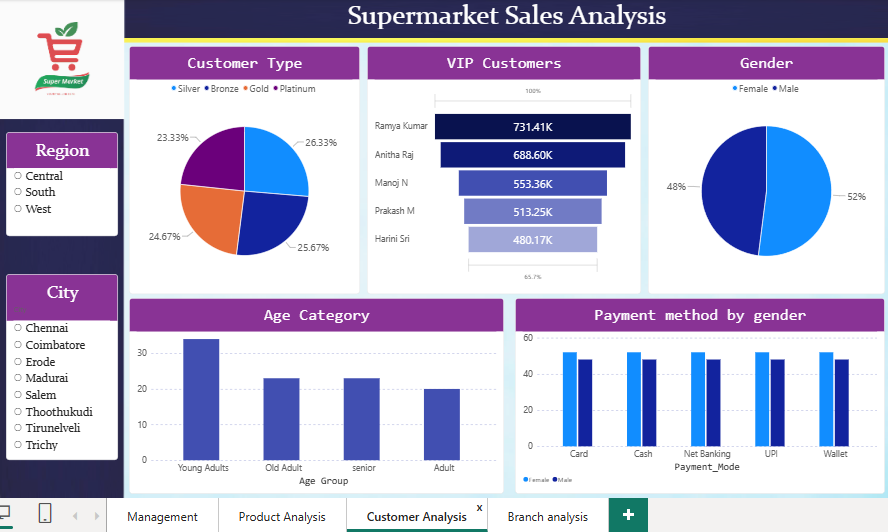

This screenshot's page, from the dashboard's own definition file:
{"tool":"powerbi","page":{"name":"Customer Analysis","canvas":[1920,1080],"ordinal":2},"visuals":[{"type":"listSlicer","title":"City","fields":{"Values":["Branch.City"]},"box":[13,596.2,241.9,401.8],"z":0},{"type":"funnel","title":"VIP Customers ","fields":{"Y":["Product.totals sales"],"Category":["Customer.Customer_Name"]},"box":[792.7,103.7,591.8,535.7],"z":1000},{"type":"pieChart","title":"Customer Type","fields":{"Category":["Customer.Membership_Type"],"Y":["CountNonNull(Sales.Customer_ID)"]},"box":[278.6,103.7,499,535.7],"z":2000},{"type":"pieChart","title":"Gender","fields":{"Category":["Customer.Gender"],"Y":["CountNonNull(Customer.Customer_ID)"]},"box":[1399.7,103.7,511.9,535.7],"z":3000},{"type":"clusteredColumnChart","title":"Age Category","fields":{"Category":["Customer.Age Group"],"Y":["CountNonNull(Customer.Customer_ID)"]},"box":[278.6,648,810,423.4],"z":4000},{"type":"clusteredColumnChart","title":"Payment method by gender ","fields":{"Category":["Sales.Payment_Mode"],"Y":["CountNonNull(Customer.Customer_ID)"],"Series":["Customer.Gender"]},"box":[1112.4,648,799.2,423.4],"z":5000},{"type":"image","title":"Supermarket Sales Analysis ","box":[278.6,0,1633,67],"z":6000},{"type":"listSlicer","fields":{"Values":["Branch.Region"]},"box":[13,289.4,241.9,224.6],"z":6001}]}

Visuals, with their boxes on the page's 1920x1080 design canvas (x1, y1, x2, y2). These are canvas units, not pixel positions in the 888x532 screenshot, which may show the page scaled, cropped or inside an application window:
"City" listSlicer: 13 596 255 998
"VIP Customers " funnel: 793 104 1384 639
"Customer Type" pieChart: 279 104 778 639
"Gender" pieChart: 1400 104 1912 639
"Age Category" clusteredColumnChart: 279 648 1089 1071
"Payment method by gender " clusteredColumnChart: 1112 648 1912 1071
"Supermarket Sales Analysis " image: 279 0 1912 67
listSlicer - Branch.Region: 13 289 255 514
